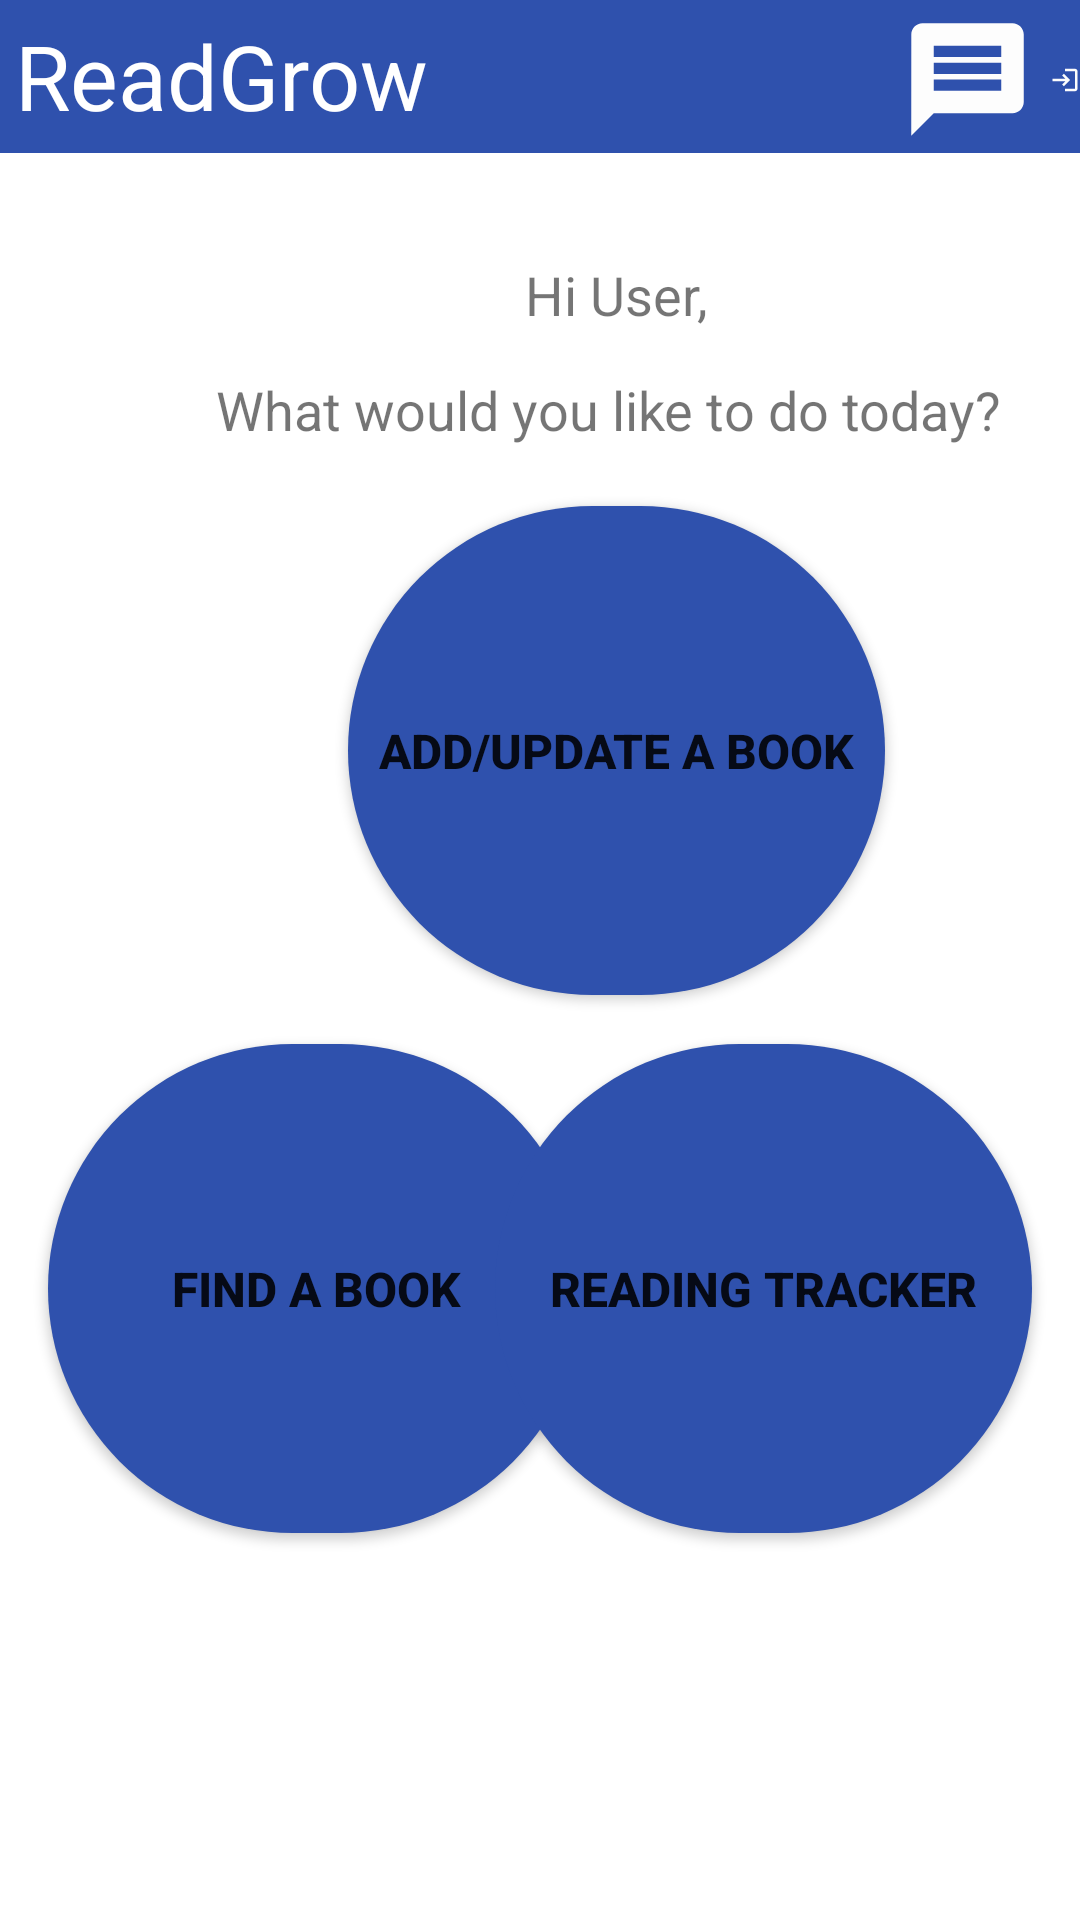

Screen size 1080 x 1920. Icon name, then its center in pixels as (x,y):
Message: (967,79)
Sign out: (1065,80)
